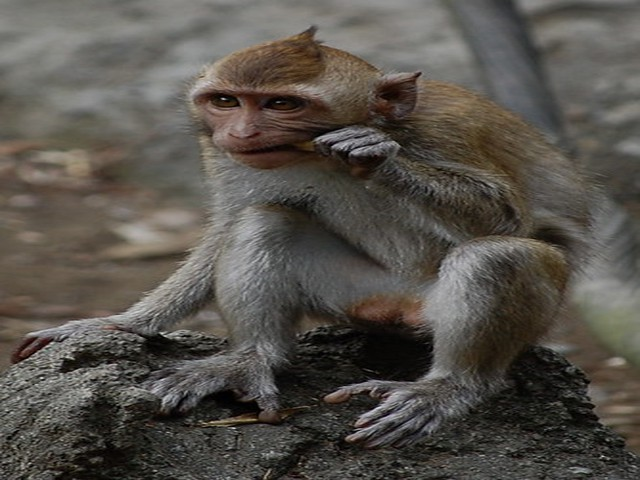Monkey: (105, 23, 610, 445)
